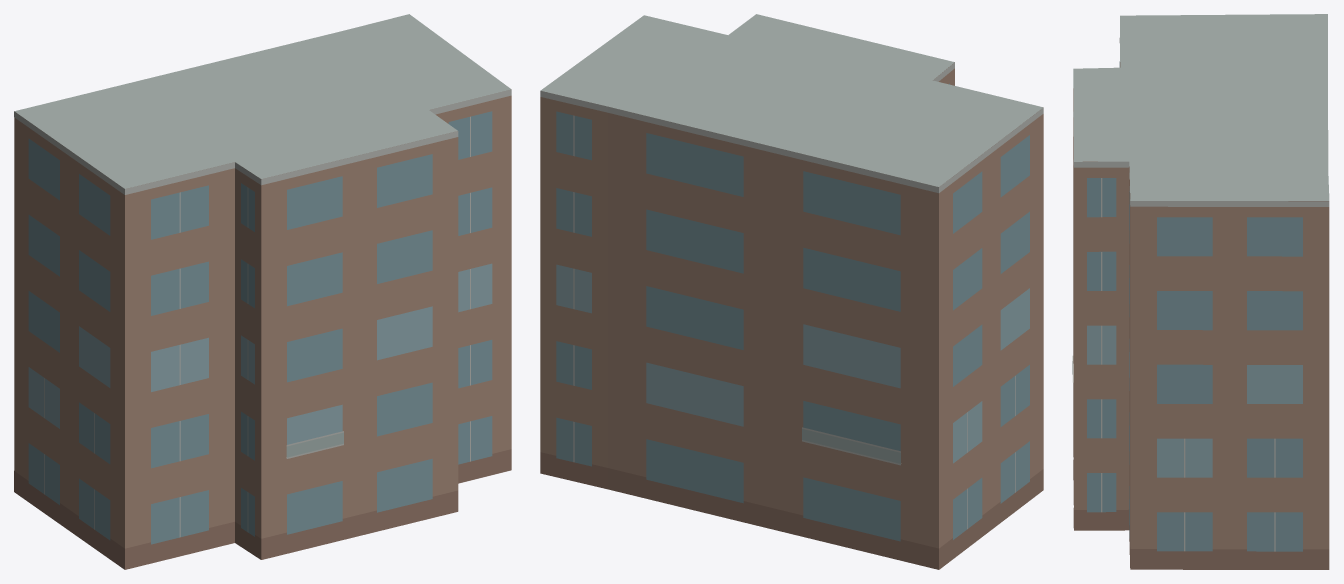
Rendered from survey-upis-32766806.glb.
3 renders of one model, left to right at view 1: azimuth 30°, elevation 25°; view 2: azimuth 150°, elevation 25°; view 3: azimuth 270°, elevation 25°, orthographic. The views are drawn at different scales.
Visible parts, largest first — view 1: survey-upis-32766806.tmp; view 2: survey-upis-32766806.tmp; view 3: survey-upis-32766806.tmp.
Part boxes in pixels (x1,y1,x2,y2): survey-upis-32766806.tmp: (14,14,511,569); survey-upis-32766806.tmp: (540,14,1043,569); survey-upis-32766806.tmp: (1072,14,1329,569).
Size of the model in its own units: 16.6 by 15.25 by 9.64.
